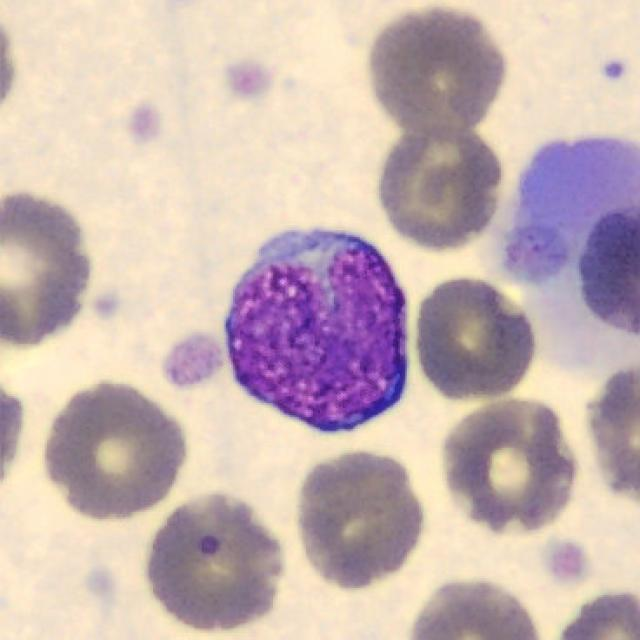Monocito: (223, 230, 407, 434)
